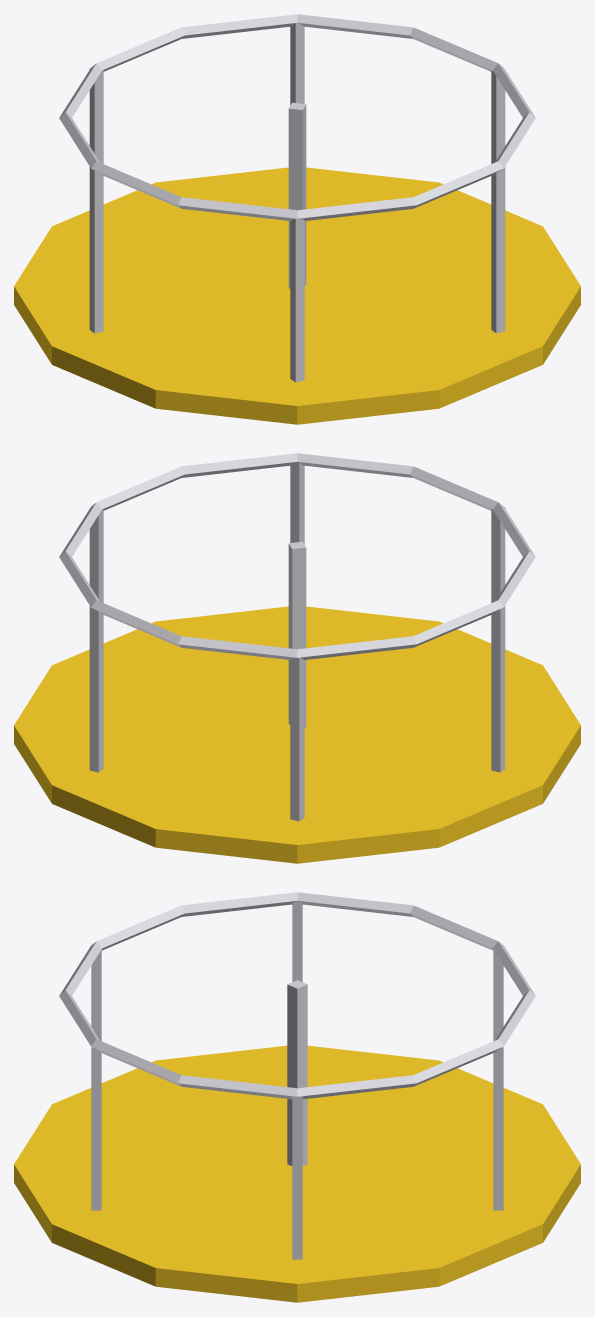
File: merry_go_round.glb
The picture shows the model from 3 angles, top to bottom: view 1: azimuth 30°, elevation 25°; view 2: azimuth 150°, elevation 25°; view 3: azimuth 270°, elevation 25°; orthographic projection.
Parts seen in each view (by area): view 1: merry_go_round; view 2: merry_go_round; view 3: merry_go_round.
Boxes of the visible parts, x1,y1,x2,y2 form: merry_go_round: [14, 14, 580, 424]; merry_go_round: [14, 453, 580, 863]; merry_go_round: [14, 892, 580, 1302].
Bounding box in the file's own units: 2.2 × 1.25 × 2.2.
